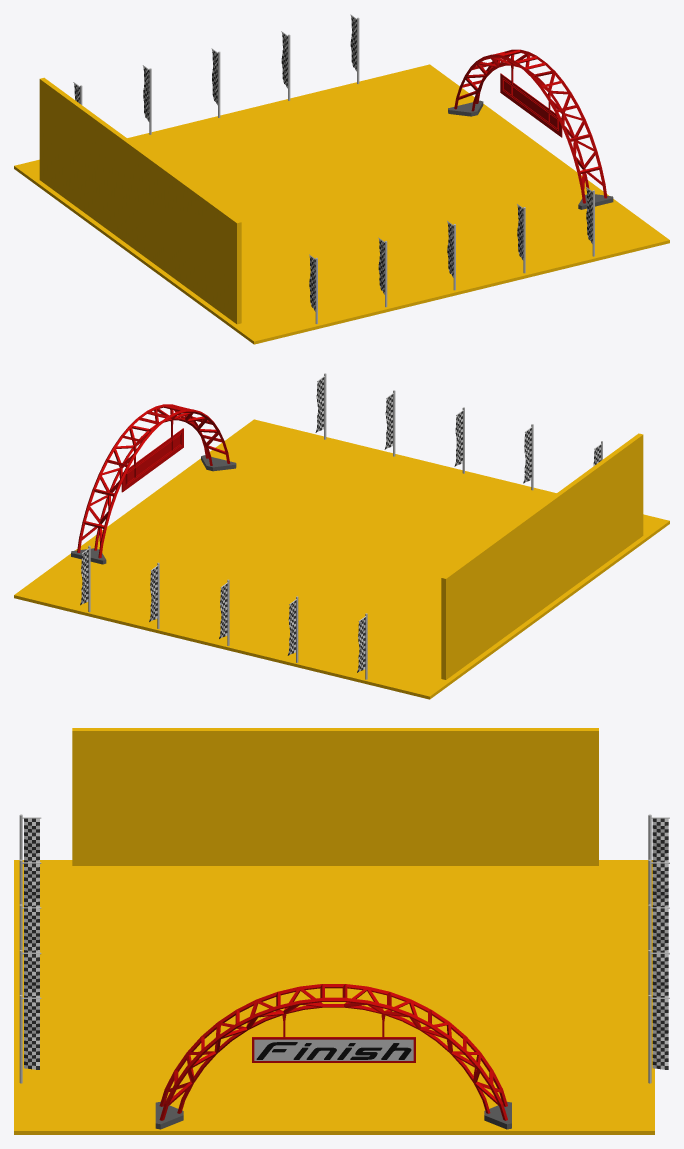
File: end.fbx
3 views of the same model, one above another, from view 1: azimuth 30°, elevation 25°; view 2: azimuth 150°, elevation 25°; view 3: azimuth 270°, elevation 25° (orthographic). The views are drawn at different scales.
Parts seen in each view (by area): view 1: Check_Point, Cube, Arch, Flag, finish; view 2: Check_Point, Cube, Flag, Arch, finish; view 3: Check_Point, Cube, Flag, Arch, finish.
Boxes of the visible parts, left/top/right/bottom form: Check_Point: left=14, top=64, right=669, bottom=344; Cube: left=39, top=77, right=241, bottom=324; Arch: left=448, top=49, right=613, bottom=209; Flag: left=73, top=14, right=594, bottom=324; finish: left=500, top=73, right=562, bottom=137; Check_Point: left=14, top=419, right=669, bottom=699; Cube: left=441, top=433, right=643, bottom=679; Flag: left=80, top=373, right=602, bottom=679; Arch: left=71, top=404, right=236, bottom=564; finish: left=121, top=428, right=183, bottom=492; Check_Point: left=14, top=860, right=654, bottom=1134; Cube: left=72, top=728, right=598, bottom=865; Flag: left=19, top=814, right=669, bottom=1083; Arch: left=155, top=984, right=511, bottom=1129; finish: left=252, top=1037, right=415, bottom=1062.
Bounding box in the file's own units: 4000 × 958 × 4094.
